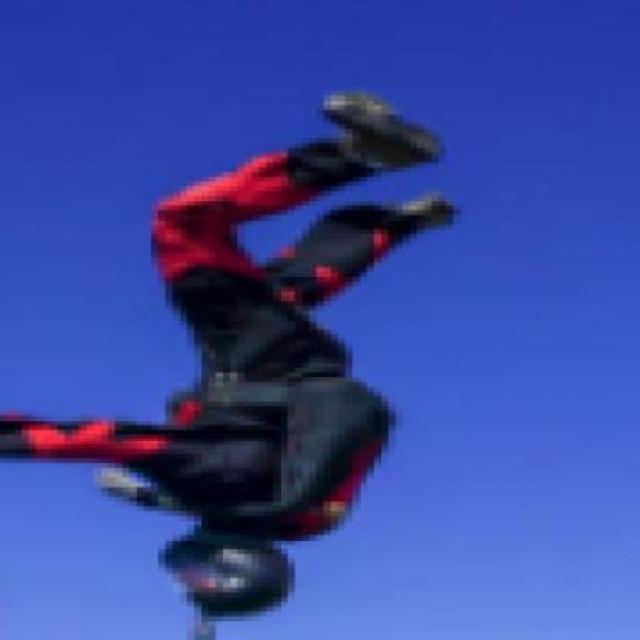fall: (0, 74, 455, 628)
